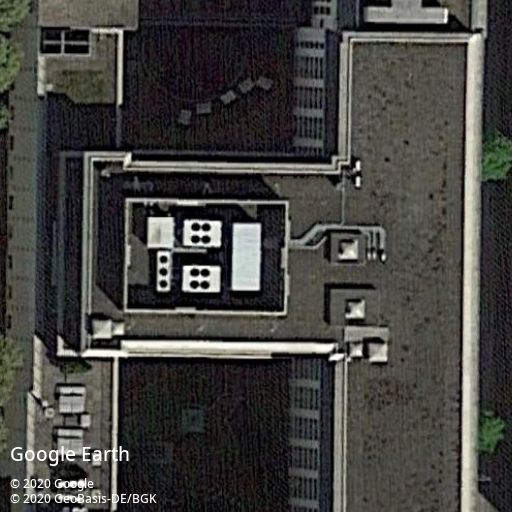Chiller: (183, 219, 222, 247), (182, 265, 220, 292), (156, 251, 172, 292)
